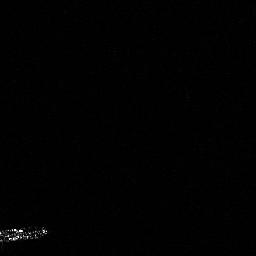ship: (1, 222, 50, 247)
